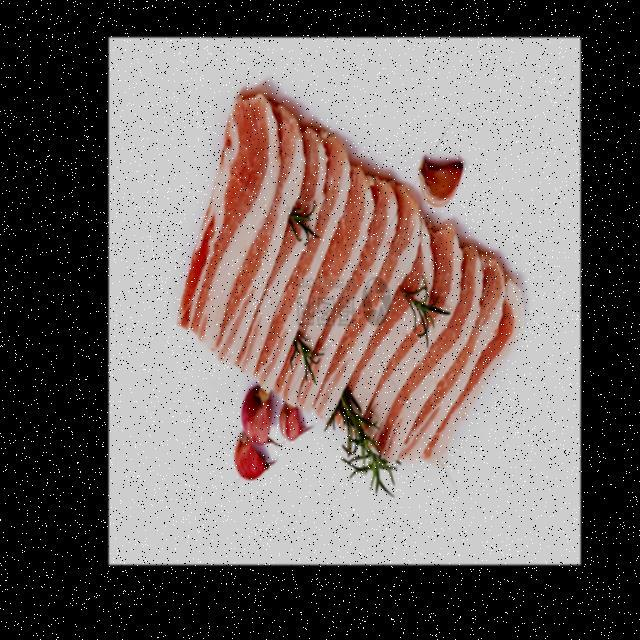pork: (187, 92, 517, 485)
